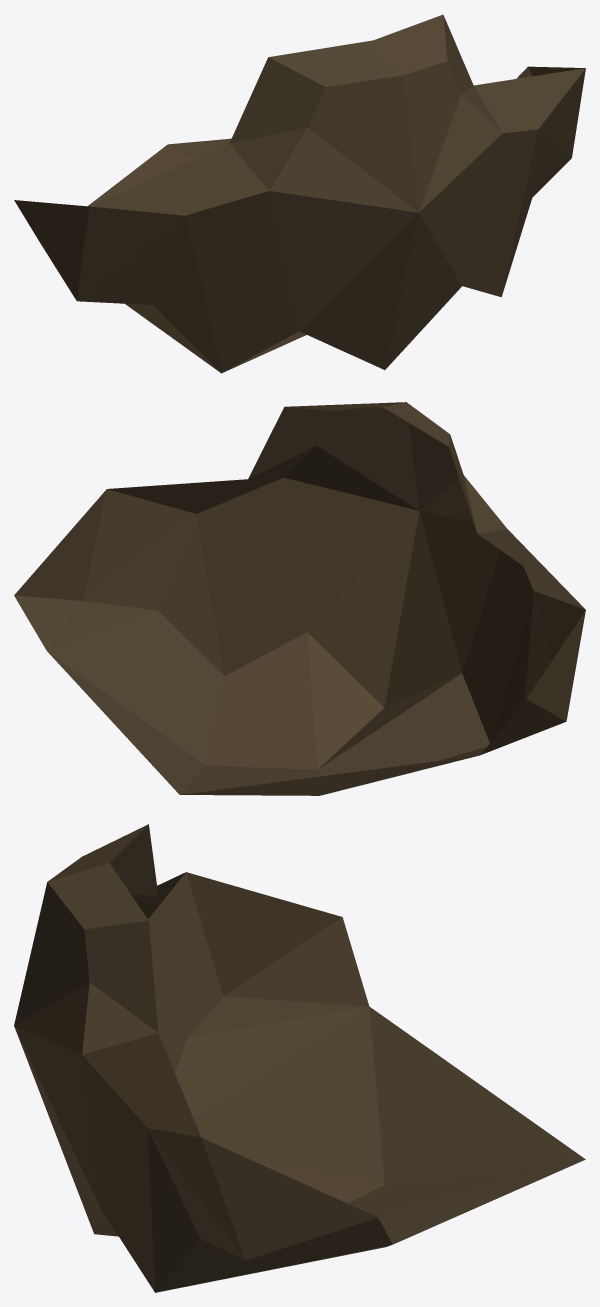
The model's file is SM_Chr_Attach_Goatee_01.fbx.
3 views of the same model, one above another, from view 1: azimuth 30°, elevation 25°; view 2: azimuth 150°, elevation 25°; view 3: azimuth 270°, elevation 25° (orthographic). The views are drawn at different scales.
Parts seen in each view (by area): view 1: SM_Chr_Attach_Goatee_01; view 2: SM_Chr_Attach_Goatee_01; view 3: SM_Chr_Attach_Goatee_01.
Part boxes in pixels (x1,y1,x2,y2): SM_Chr_Attach_Goatee_01: [14, 14, 585, 373]; SM_Chr_Attach_Goatee_01: [14, 402, 585, 795]; SM_Chr_Attach_Goatee_01: [14, 824, 585, 1292].
Size of the model in its own units: 11.22 by 6.88 by 9.29.
